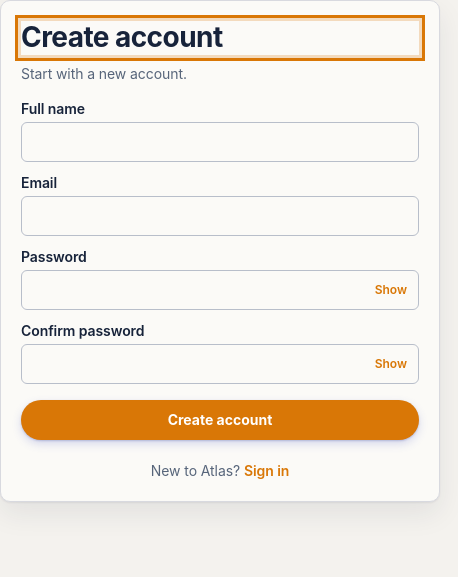
keeps form visible with validation error when passwords differ
Type "Ada" into the field labelled "Full name" at {"x": 220, "y": 142}, box [21,122,419,162]
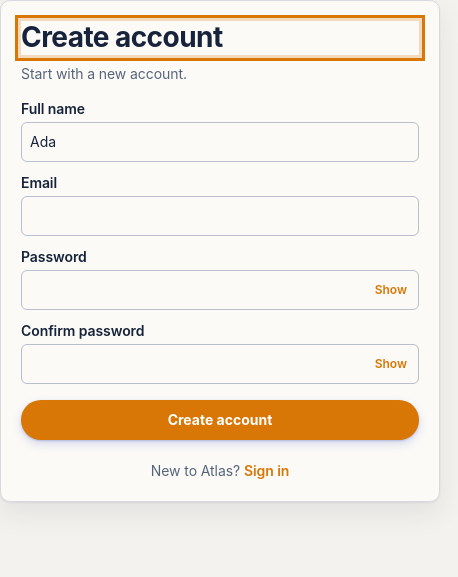
Type "ada@example.test" into the field labelled "Email" at {"x": 220, "y": 216}, box [21,196,419,236]
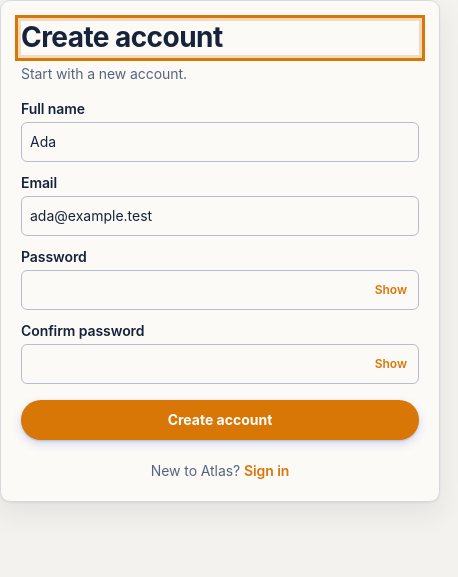
Type "a sufficiently long secure password" into the password field labelled "Password" at {"x": 220, "y": 290}, box [21,270,419,310]
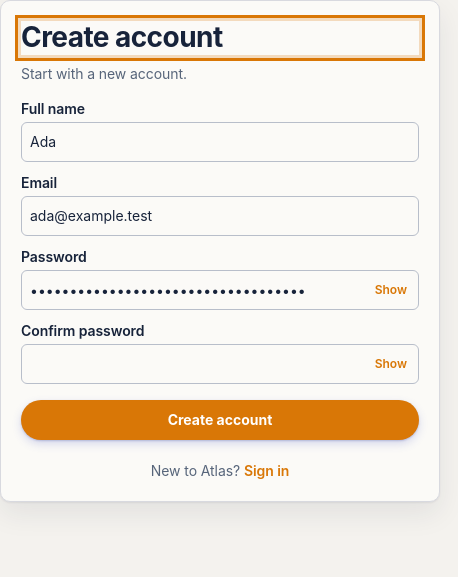
Type "another password" into the password field labelled "Confirm password" at {"x": 220, "y": 364}, box [21,344,419,384]
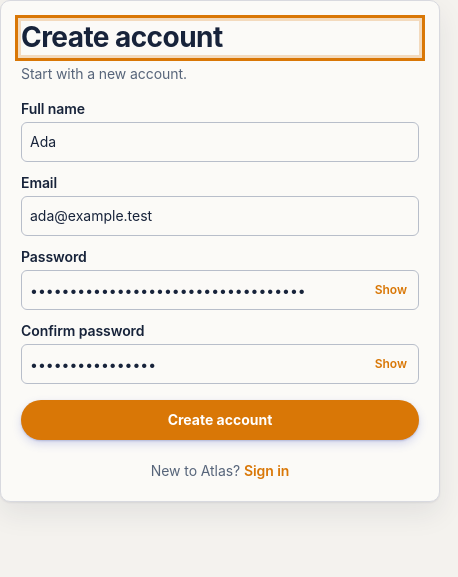
Click the button "Create account" at {"x": 220, "y": 420}, box [21,400,419,440]
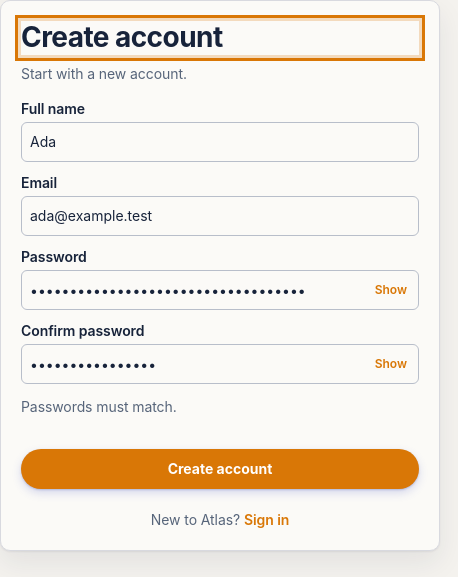
Expected: the heading "Create account" is shown, [21,21,419,55]
Now the message reads "Passwords must match.", box [21,398,177,415]
